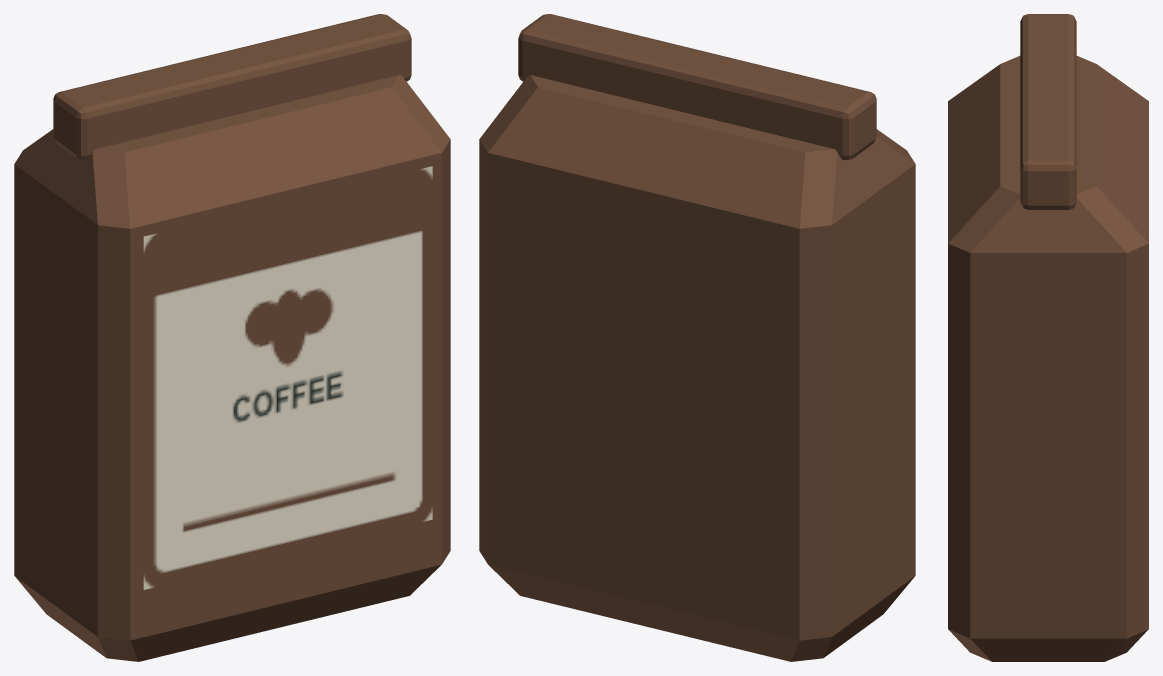
File: coffee.fbx
The picture shows the model from 3 angles, left to right: view 1: azimuth 30°, elevation 25°; view 2: azimuth 150°, elevation 25°; view 3: azimuth 270°, elevation 25°; orthographic projection. The views are drawn at different scales.
Parts seen in each view (by area): view 1: coffee; view 2: coffee; view 3: coffee.
Part boxes in pixels (bbox=[...]): coffee: bbox=[14, 14, 450, 661]; coffee: bbox=[479, 14, 915, 661]; coffee: bbox=[948, 14, 1148, 661].
Bounding box in the file's own units: 19 × 27.67 × 10.2.
